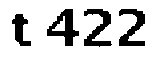2: (115, 2, 150, 50), (82, 6, 113, 50)
4: (45, 5, 80, 51)
t: (7, 10, 33, 52)
